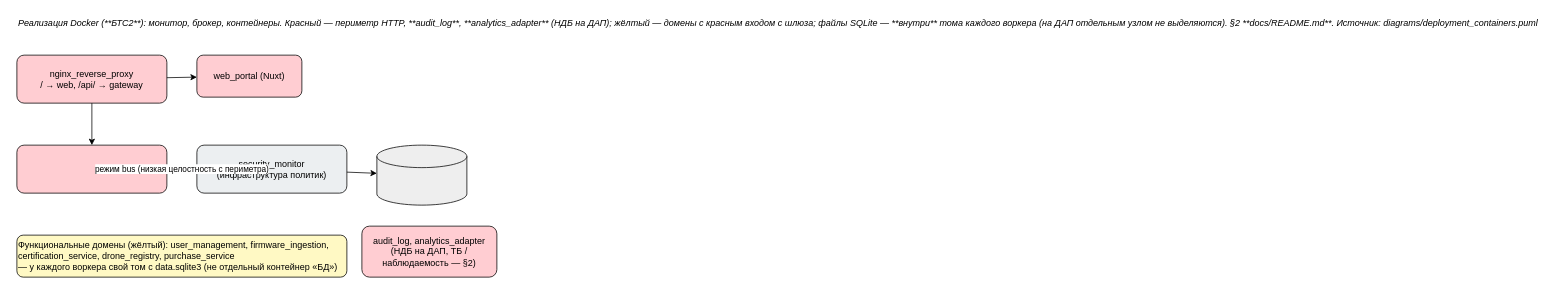
The diagram is 1551 pixels wide and 290 high, and some of its shapes have lost their labels. Each missing label, with the centre of its shape:
api_gateway UAS_GATEWAY_BACKEND=sqlite|bus: the point at 91,168
Kafka / MQTT (профиль compose): the point at 421,174
